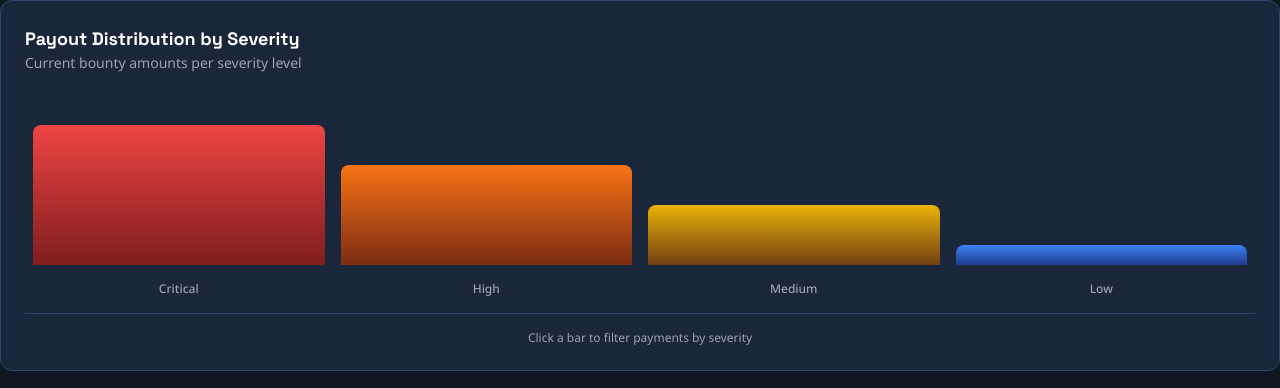
PayoutChart › displays tooltip on hover
Hover over the element with class "group" showing "Critical" at (179, 197), box [33, 97, 324, 297]
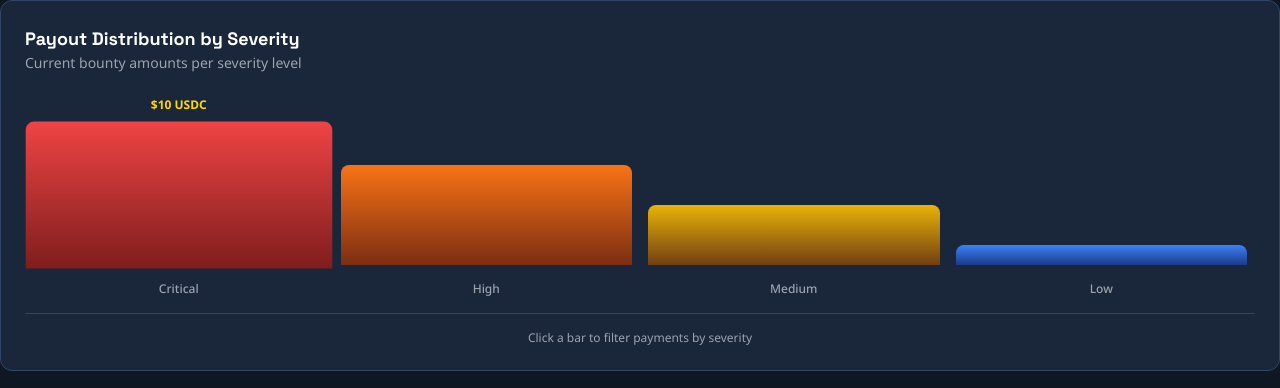
Now the text "$10 USDC" is shown, box [151, 97, 207, 113]
